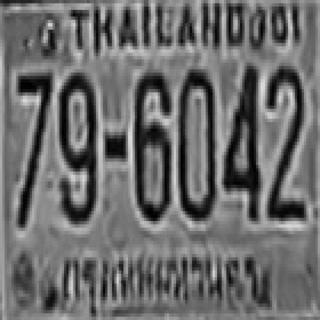N00: (176, 66, 215, 218)
N02: (265, 61, 304, 206), (264, 63, 303, 195)
N04: (222, 61, 258, 219)
N06: (132, 69, 169, 218)
N07: (16, 71, 50, 216), (16, 69, 50, 185), (16, 71, 50, 173), (16, 71, 50, 163)
N09: (57, 69, 98, 221)
P04: (57, 244, 264, 310)
